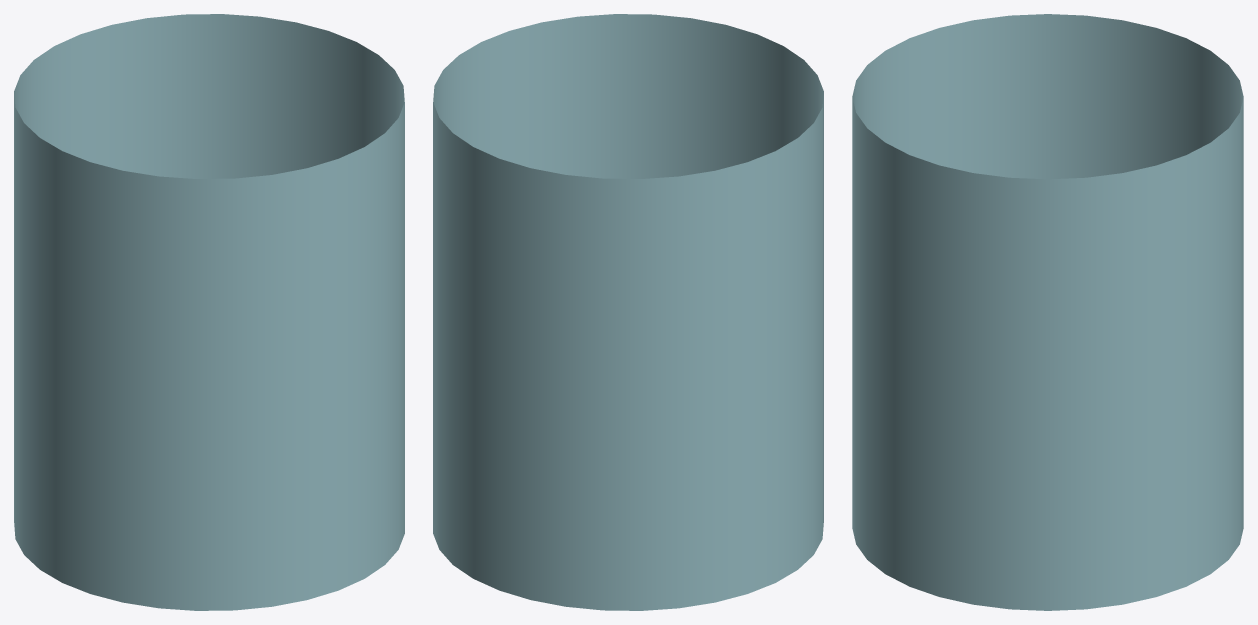
File: banka-steklo.glb
3 views of the same model, side by side, from view 1: azimuth 30°, elevation 25°; view 2: azimuth 150°, elevation 25°; view 3: azimuth 270°, elevation 25° (orthographic).
Parts seen in each view (by area): view 1: banka-steklo; view 2: banka-steklo; view 3: banka-steklo.
Boxes of the visible parts, <box> form: banka-steklo: <box>14,14,404,610</box>; banka-steklo: <box>433,14,823,610</box>; banka-steklo: <box>852,14,1243,610</box>.
Bounding box in the file's own units: 0.198 × 0.241 × 0.198.
1 material, 1 textured.
